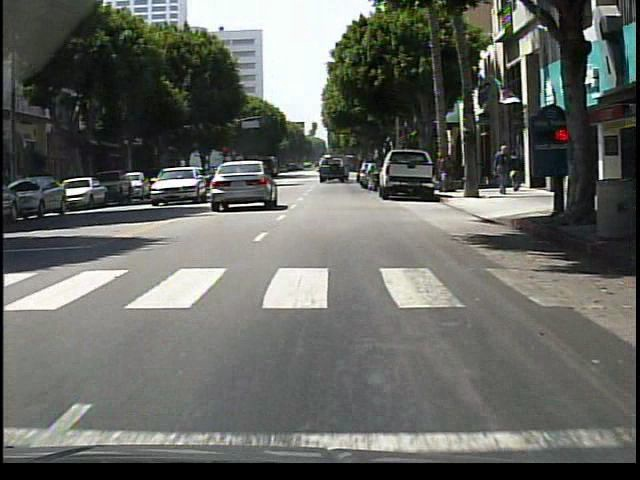person: (494, 145, 513, 198), (509, 151, 523, 194), (236, 160, 248, 203)
